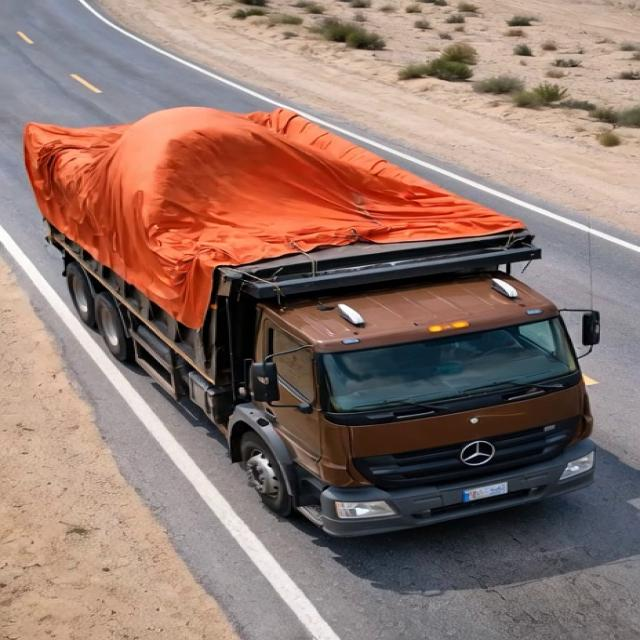Box: (28, 110, 550, 288)
Truck: (21, 80, 613, 586)
